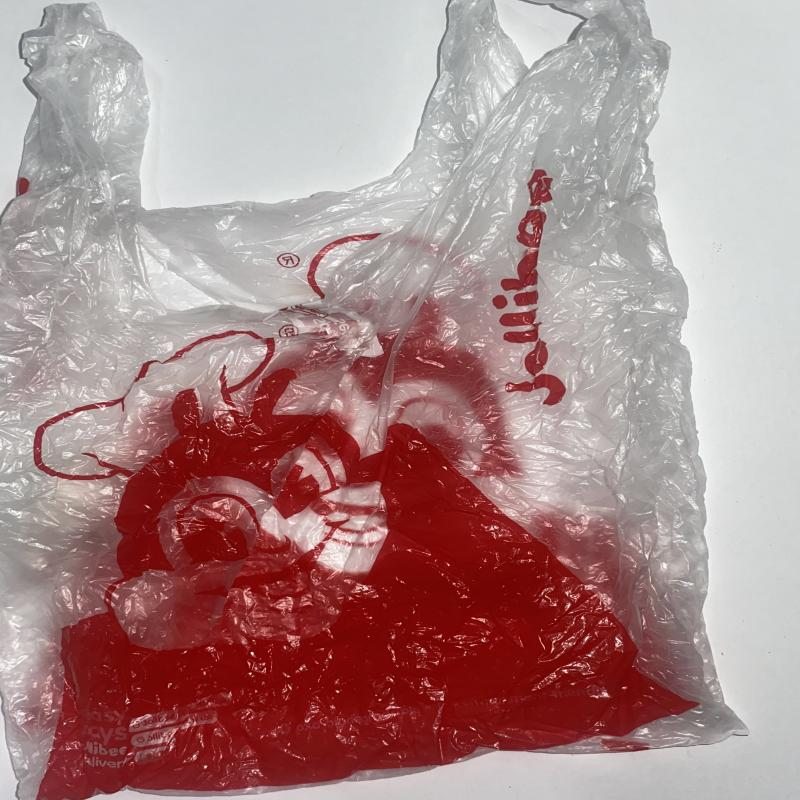plastic bag: (0, 0, 748, 800)
